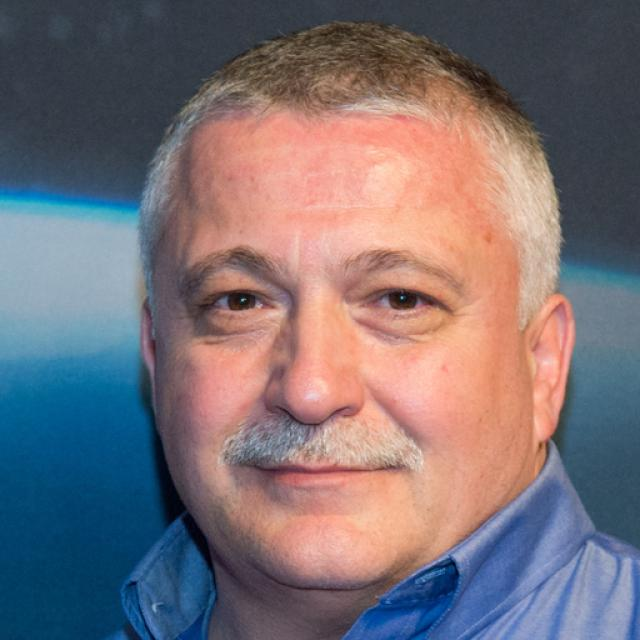Acne: (384, 391, 405, 408), (365, 159, 382, 176), (389, 202, 404, 214)
Dark Circle: (352, 313, 444, 342), (202, 315, 277, 348)
